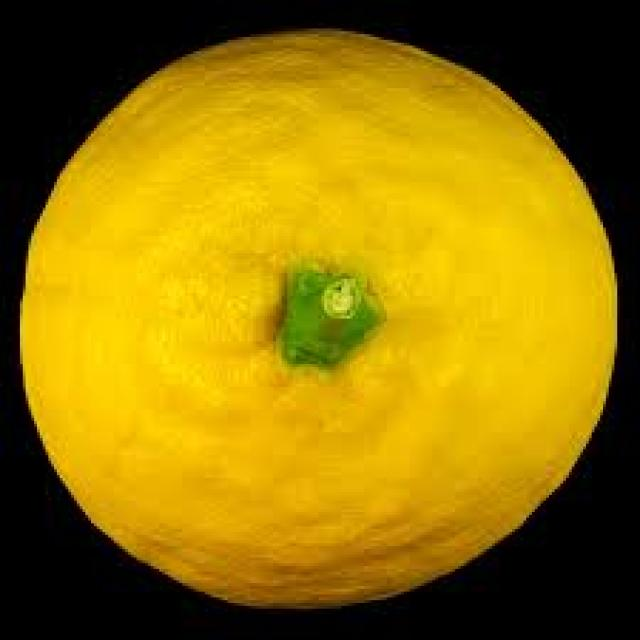Lemon: (22, 32, 622, 615)
